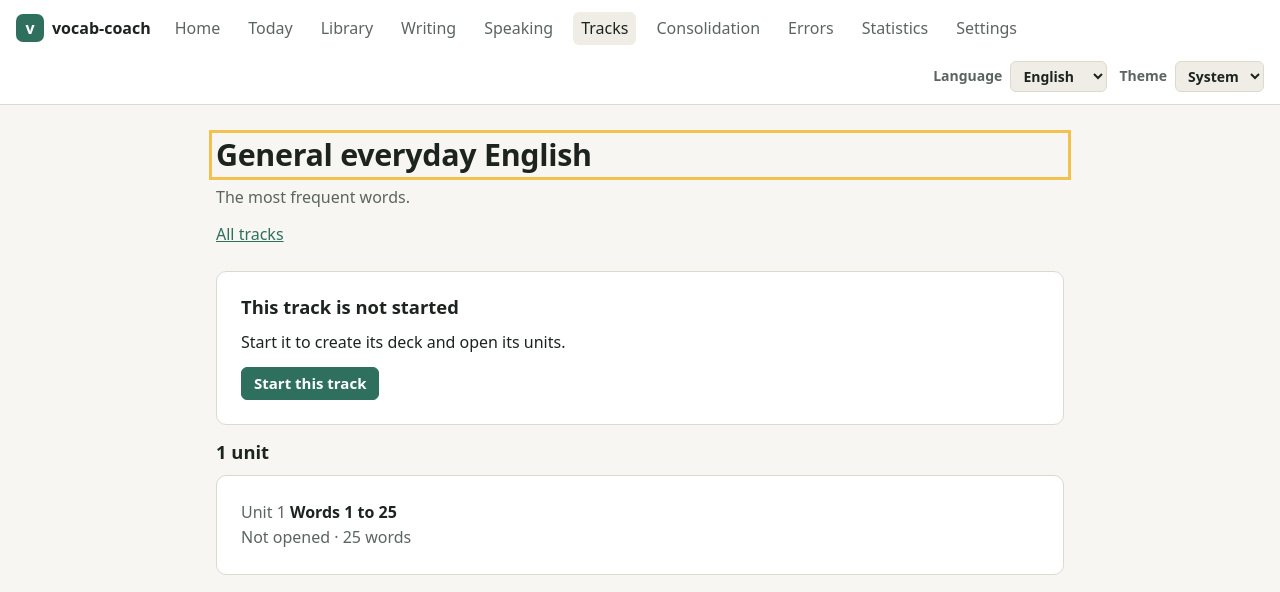
Test: /curriculum/:code › offers "Start this track" when it is not started, and starts it once
Expected: the heading "This track is not started" is shown, [241, 294, 459, 319]
Click the button "Start this track": (310, 383) [241, 367, 380, 400]
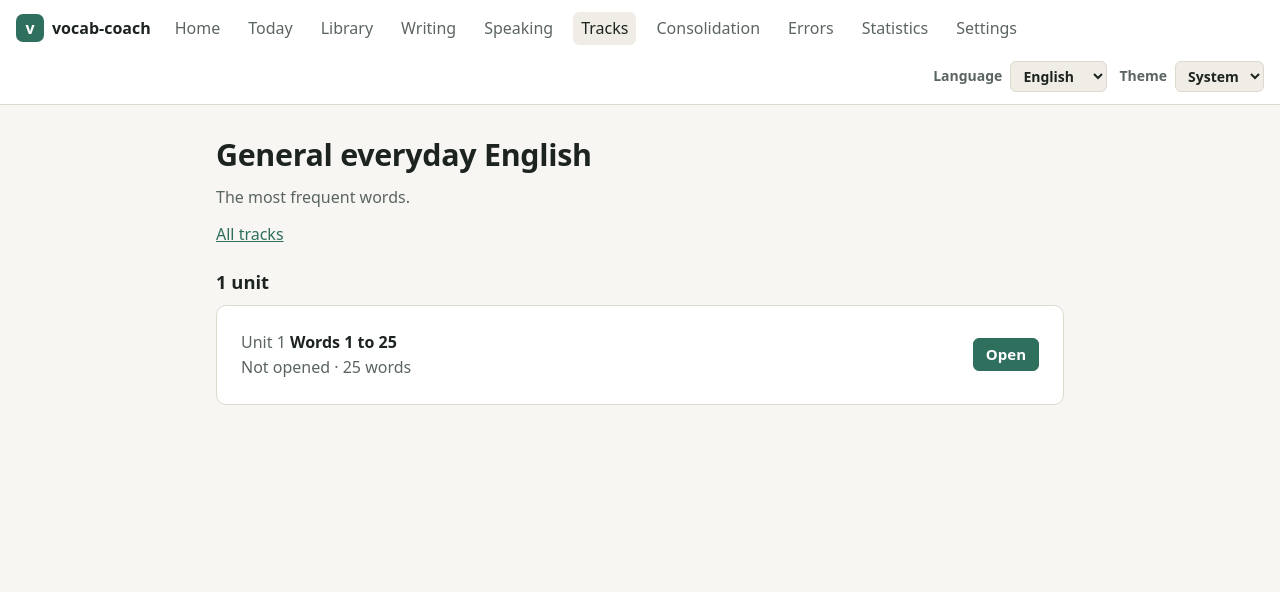
Expected: the button with aria-label "Open unit 1" is shown, [973, 338, 1039, 371]
Expected: the heading "This track is not started" is gone
